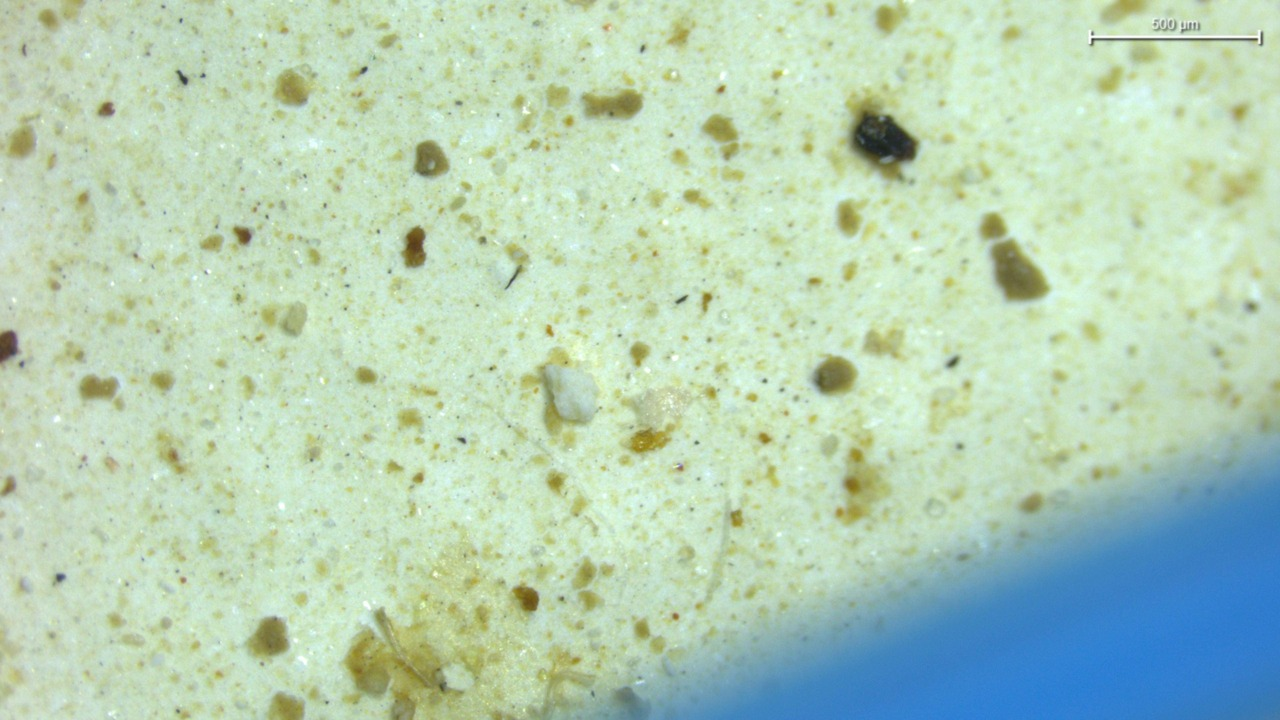microplastic_fragment: (545, 365, 597, 421)
